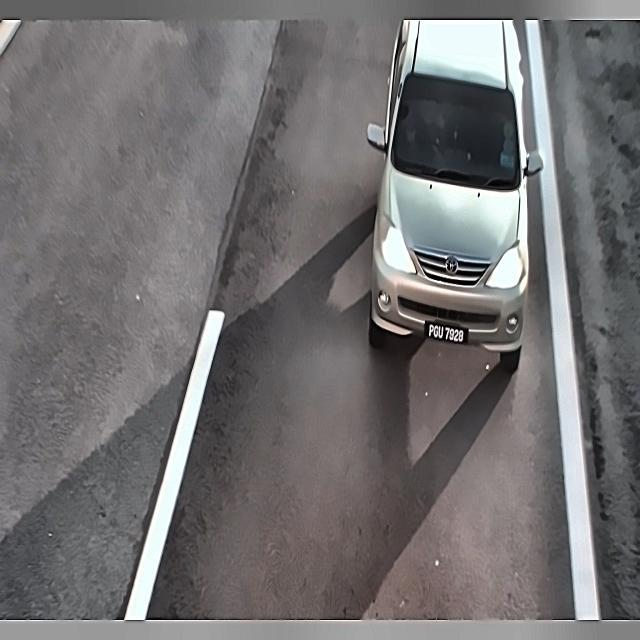car: (422, 309, 470, 353)
